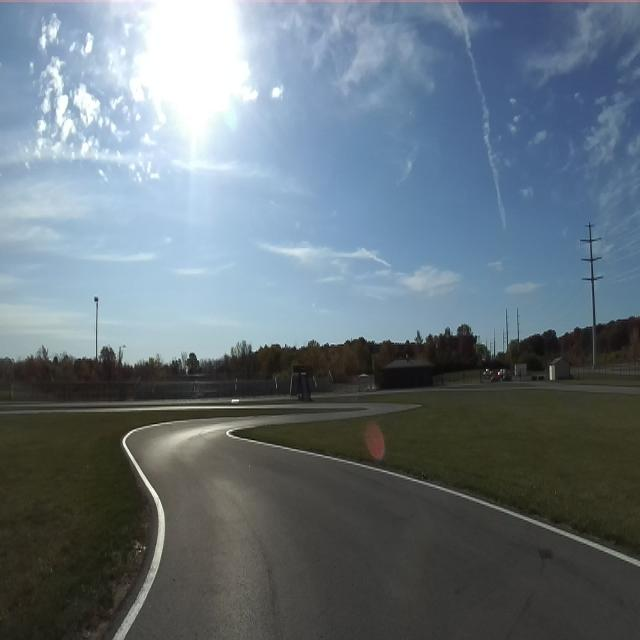white-line: (226, 429, 640, 567), (114, 428, 165, 639)
